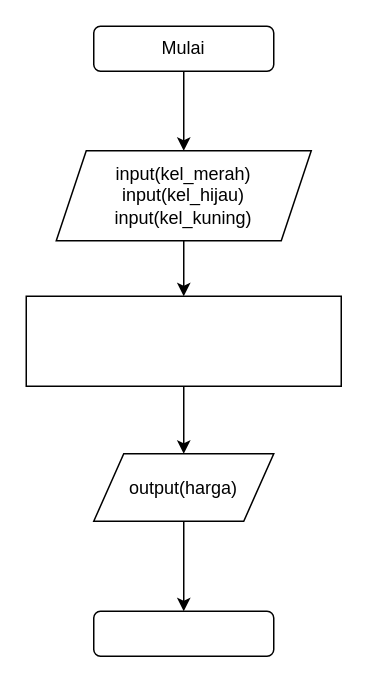
Some shapes in this 368 by 683 pixel diagram are drawn without their labels. The shapes that lost their labels are listed below. From the top down, each one's box as (x1, y1, x2, y2) in pixels, then its label:
(25, 295, 341, 386): harga ← 100 * ((kel_merah * 10) + (kel_hijau * 15) + (kel_kuning * 20))
(92, 610, 274, 656): Selesai
